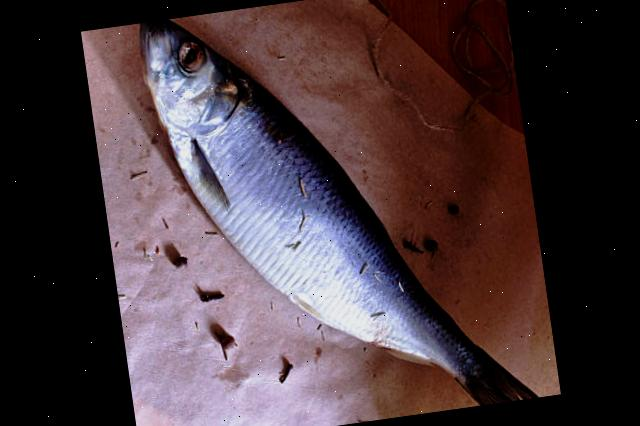Healthy Fish: (135, 19, 538, 406)
